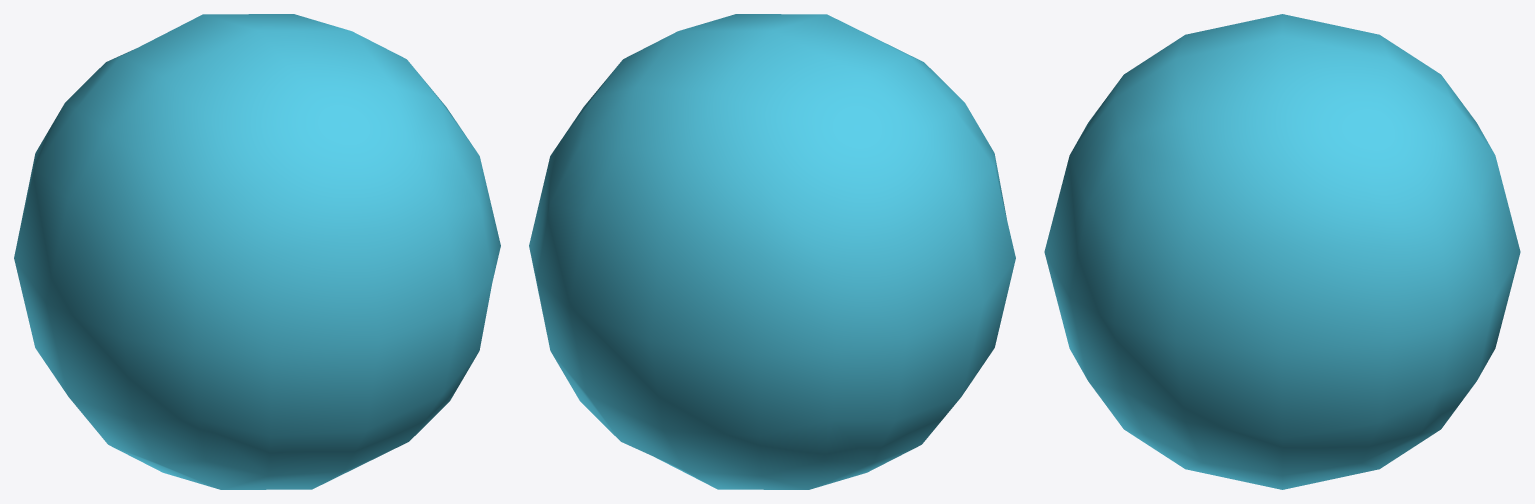
File: magic_orb.glb
3 renders of one model, left to right at view 1: azimuth 30°, elevation 25°; view 2: azimuth 150°, elevation 25°; view 3: azimuth 270°, elevation 25°, orthographic. The views are drawn at different scales.
Parts seen in each view (by area): view 1: Cube; view 2: Cube; view 3: Cube.
Part boxes in pixels (left/top/right/bottom): Cube: left=14, top=14, right=500, bottom=489; Cube: left=529, top=14, right=1015, bottom=489; Cube: left=1044, top=14, right=1520, bottom=489.
Size of the model in its own units: 2.63 by 2.63 by 2.63.
